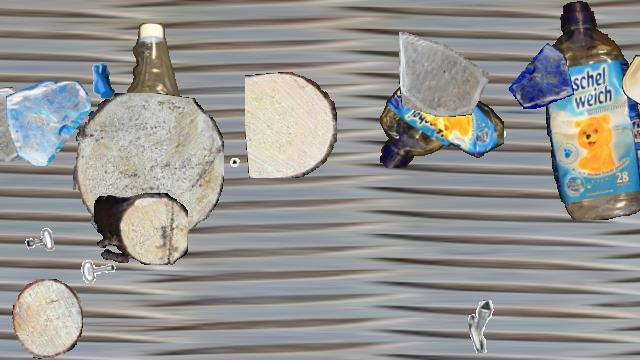glass: (399, 27, 489, 117), (6, 81, 90, 165), (508, 42, 574, 108), (0, 87, 36, 161)
metal: (569, 98, 629, 158), (11, 195, 71, 255), (74, 51, 130, 107), (468, 299, 522, 353), (78, 255, 124, 301), (470, 100, 510, 140), (226, 156, 266, 196)
plastic: (546, 1, 640, 219), (106, 23, 188, 221), (378, 77, 504, 167), (622, 10, 640, 152)
wood: (73, 93, 223, 245), (245, 72, 337, 178), (94, 193, 188, 265), (12, 279, 82, 359)
